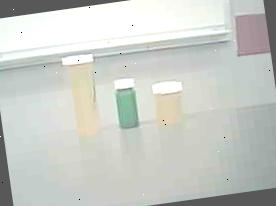Bottle A: (58, 46, 113, 147)
Bottle B: (146, 74, 190, 135)
Bottle C: (108, 71, 146, 134)
